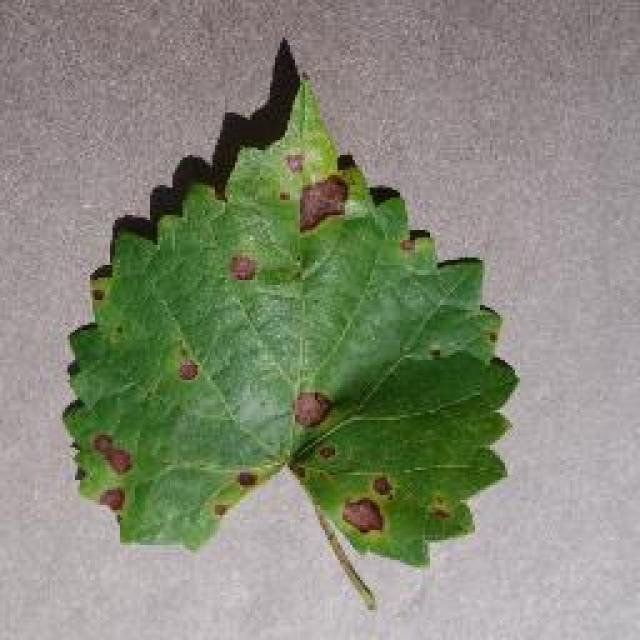Grape___Black_rot: (61, 69, 524, 618)
